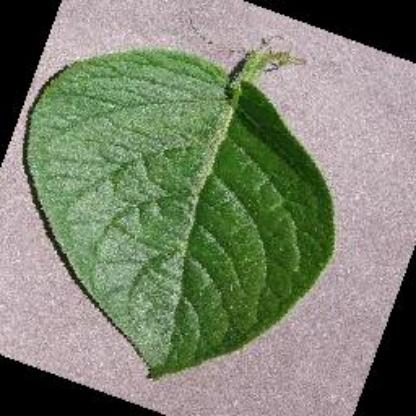Healthy-plant: (17, 26, 377, 409)
